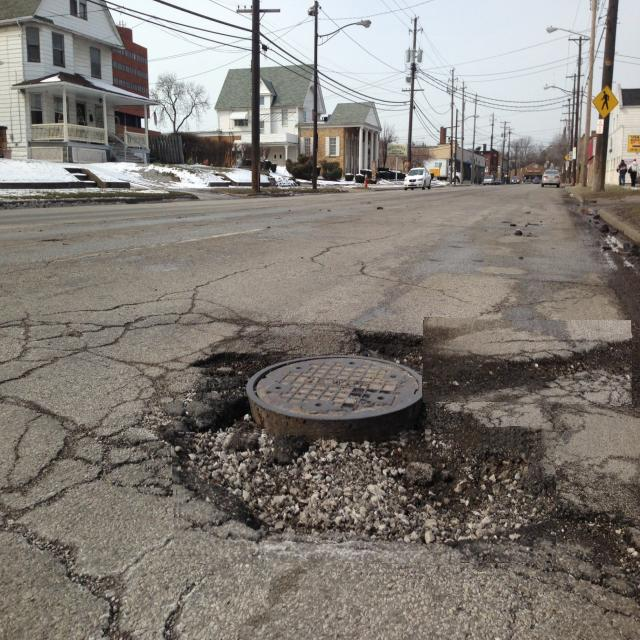Pothole: (173, 429, 556, 563), (423, 319, 632, 404)
